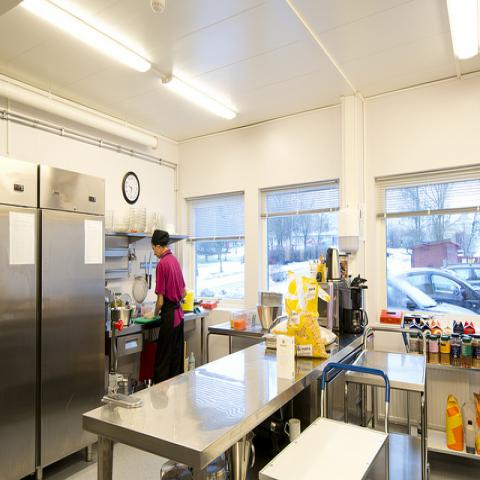car: (388, 267, 480, 314), (384, 275, 478, 316), (441, 262, 479, 287)
